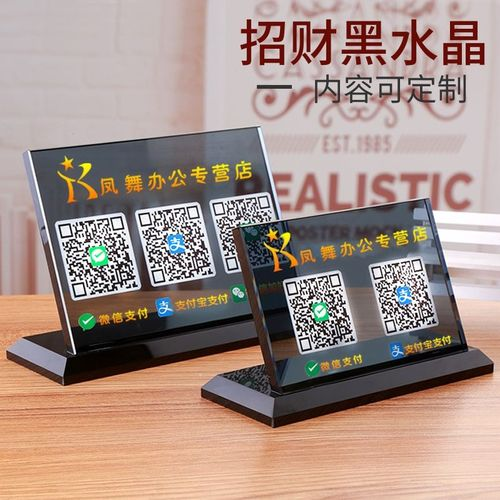QRCode: (53, 215, 137, 304), (133, 201, 218, 286), (208, 194, 292, 277), (280, 271, 363, 350), (367, 257, 443, 336)
